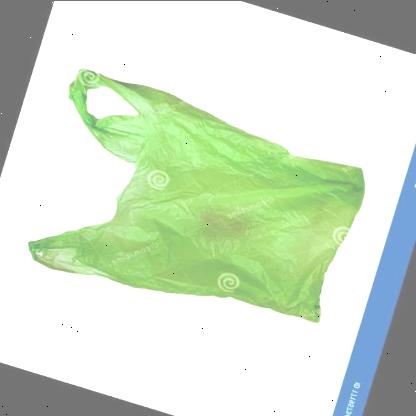Others: (27, 66, 365, 324)
